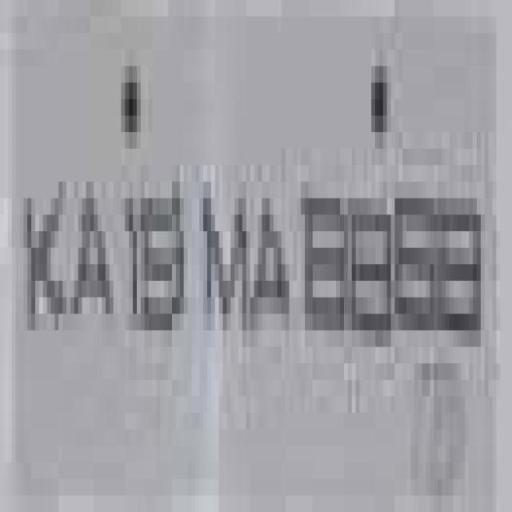number plate: (8, 33, 485, 512)
